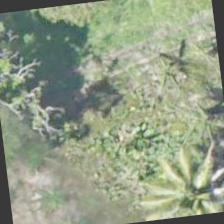Kelapa_Sawit: (141, 147, 223, 220)
